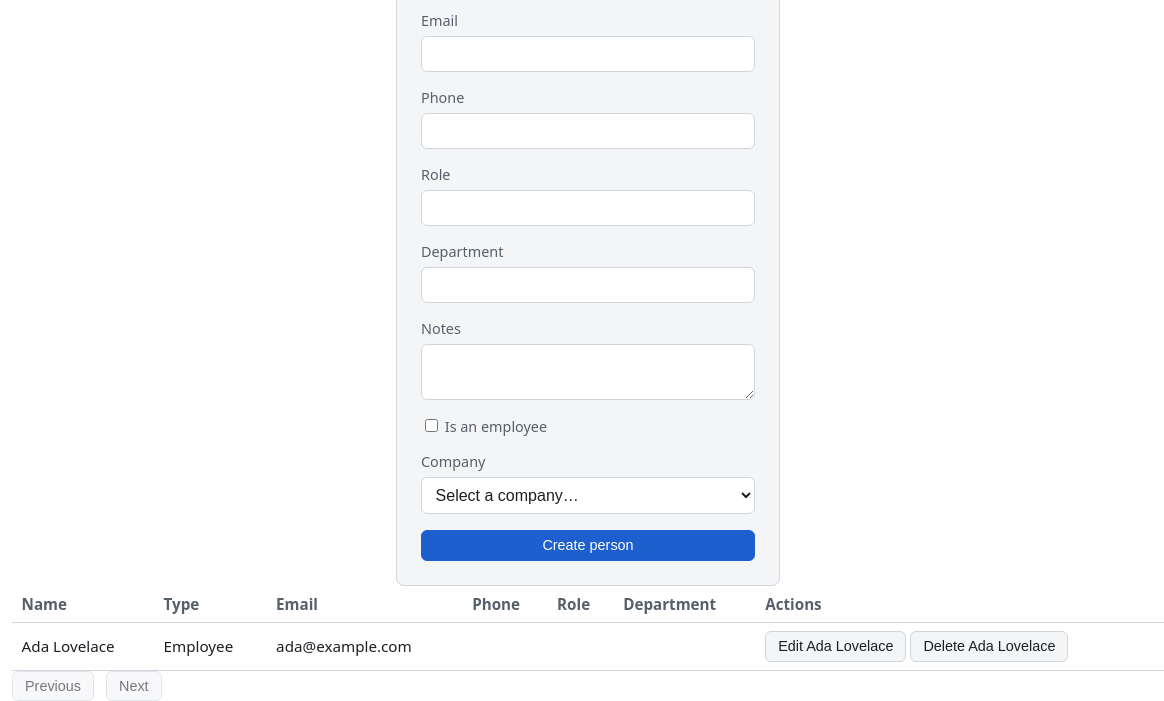
Test: PeoplePage › deletes a person
(page scrolled)
expect the text "Ada Lovelace" is shown: met, box [12,622,154,670]
Click the button "Delete Ada Lovelace". click: {"x": 989, "y": 646}
box: [910,631,1068,662]
(page scrolled)
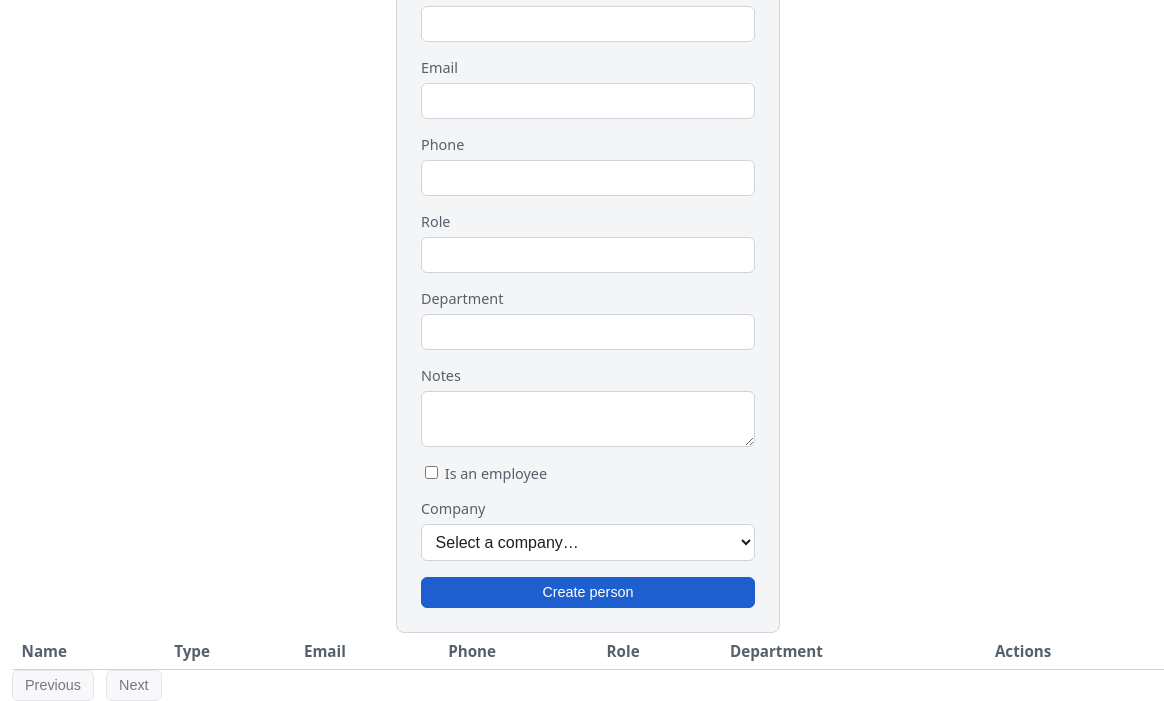
expect the text "Ada Lovelace" is gone: met
